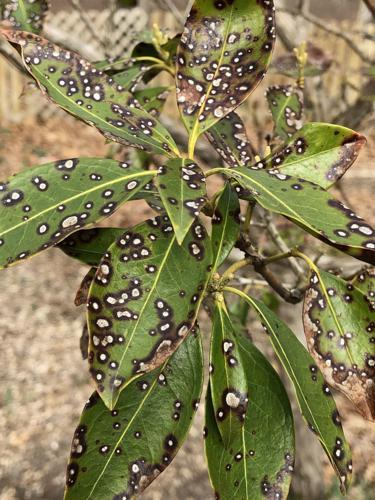black-spot: (108, 240, 175, 332), (20, 176, 95, 221)
